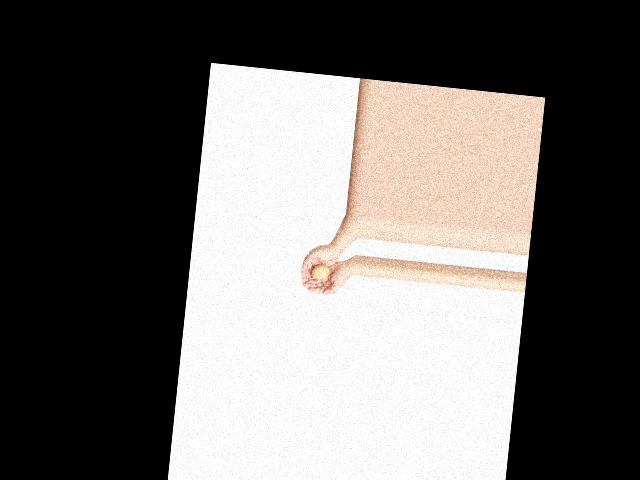egg: (311, 263, 330, 279)
